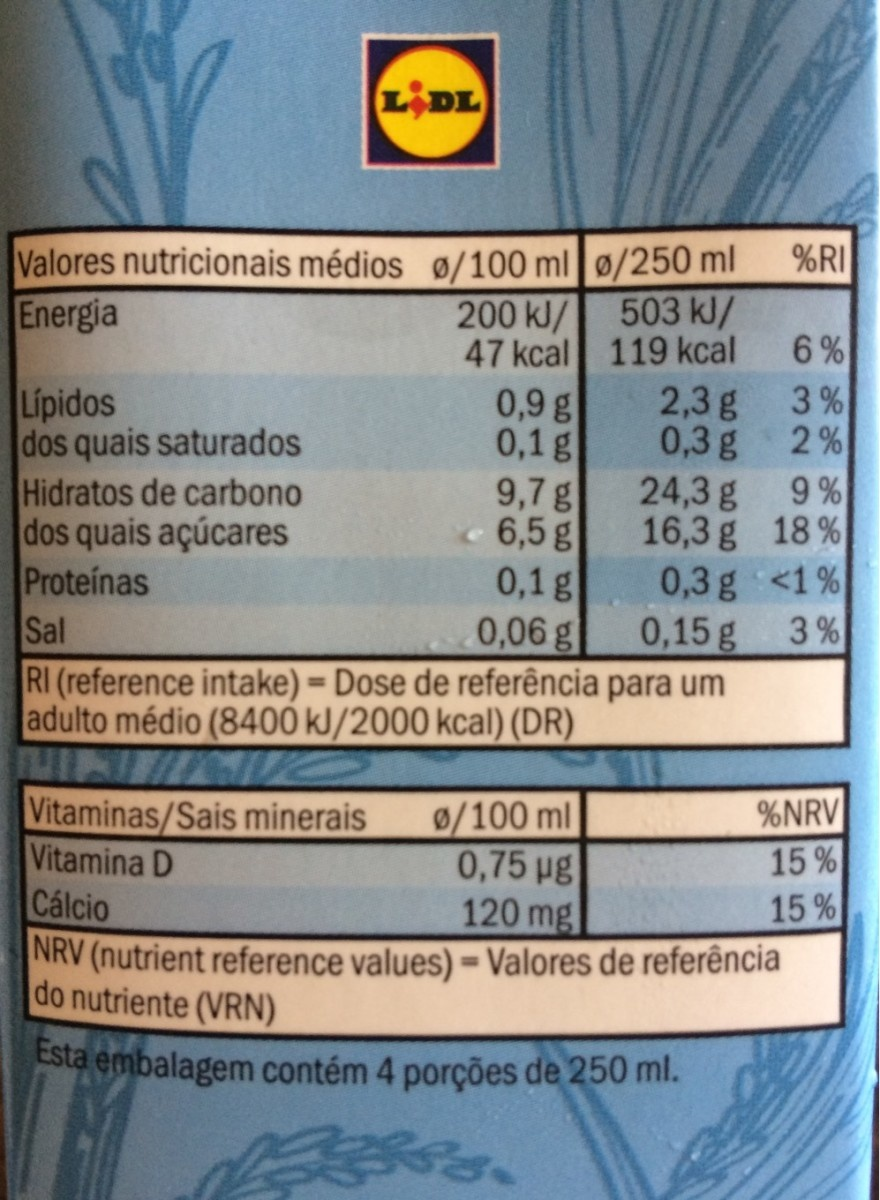column: (15, 244, 412, 651), (586, 227, 750, 662), (422, 240, 572, 654), (28, 787, 401, 938), (417, 791, 584, 943), (737, 791, 853, 940)
table: (4, 237, 852, 746), (19, 786, 844, 1028)
